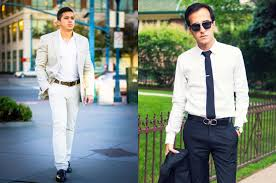F_belt: (185, 111, 239, 129), (48, 76, 84, 89)
F_dress pants: (182, 121, 240, 183)
F_shirt: (161, 40, 255, 148)
F_tie: (198, 49, 220, 121)
